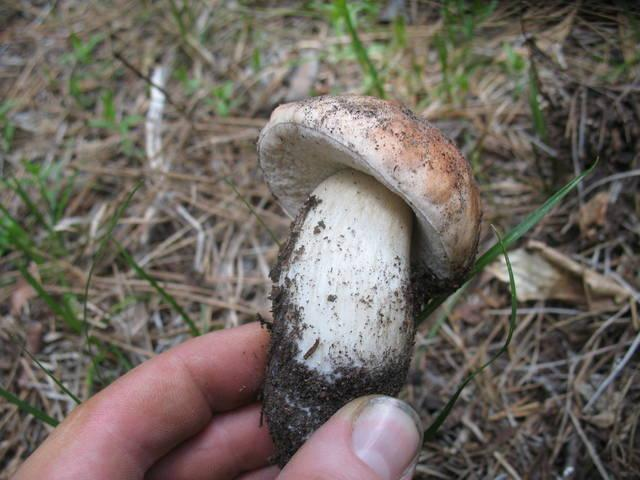Edible Mushroom: (254, 91, 483, 470)
